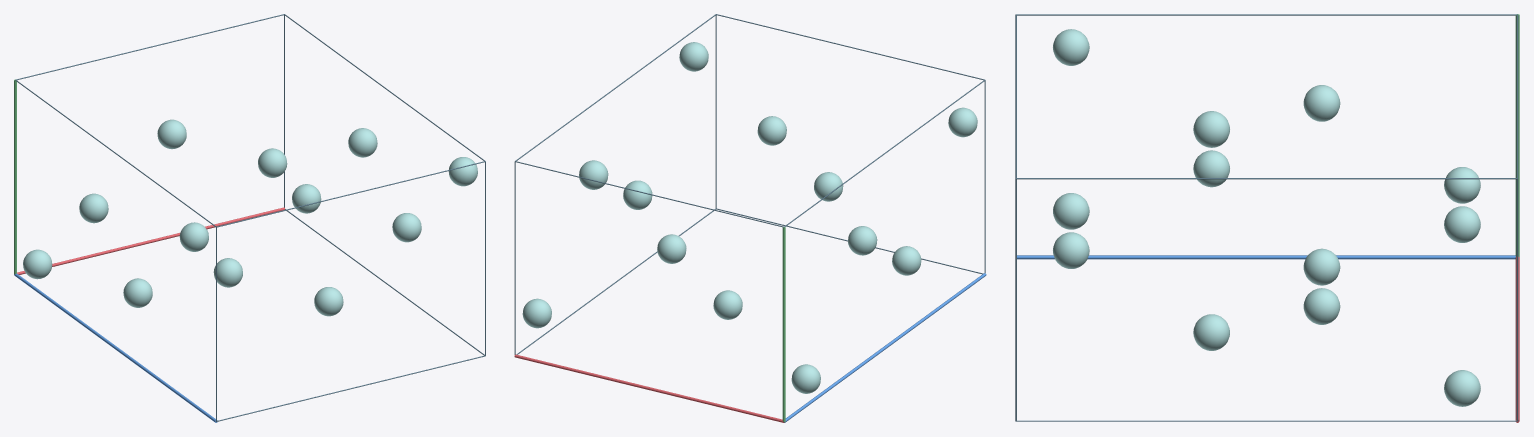
File: chat-solid-bromine.glb
3 renders of one model, left to right at view 1: azimuth 30°, elevation 25°; view 2: azimuth 150°, elevation 25°; view 3: azimuth 270°, elevation 25°, orthographic. The views are drawn at different scales.
Visible parts, largest first — view 1: Br · Br · 1 (×12), Ô mạng và các trục a, b, c; view 2: Br · Br · 1 (×12), Ô mạng và các trục a, b, c; view 3: Br · Br · 1 (×12), Ô mạng và các trục a, b, c.
Boxes of the visible parts, x1,y1,x2,y2 form: Br · Br · 1 (×12): (23,119,477,316); Ô mạng và các trục a, b, c: (14,14,485,422); Br · Br · 1 (×12): (522,42,977,393); Ô mạng và các trục a, b, c: (514,14,986,422); Br · Br · 1 (×12): (1053,29,1480,406); Ô mạng và các trục a, b, c: (1015,14,1519,422).
Bounding box in the file's own units: 7.37 × 4.69 × 8.75.
